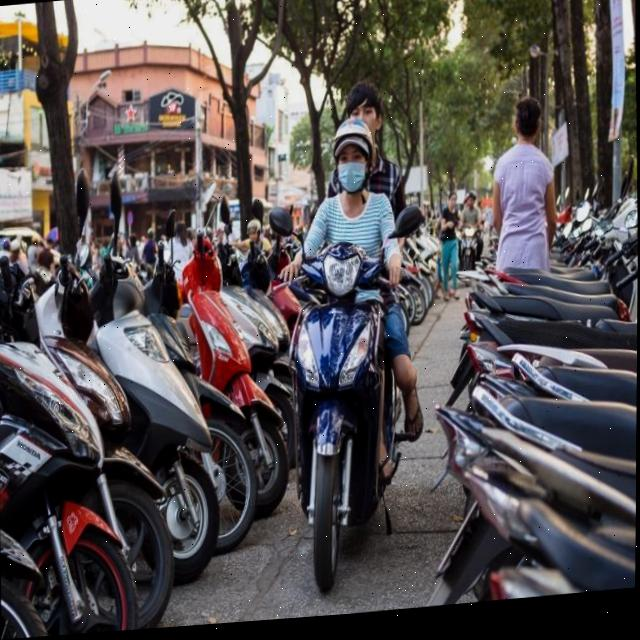motorcycle: (416, 252, 638, 607), (263, 192, 429, 608), (0, 249, 138, 640), (41, 242, 175, 637), (91, 247, 225, 590)
